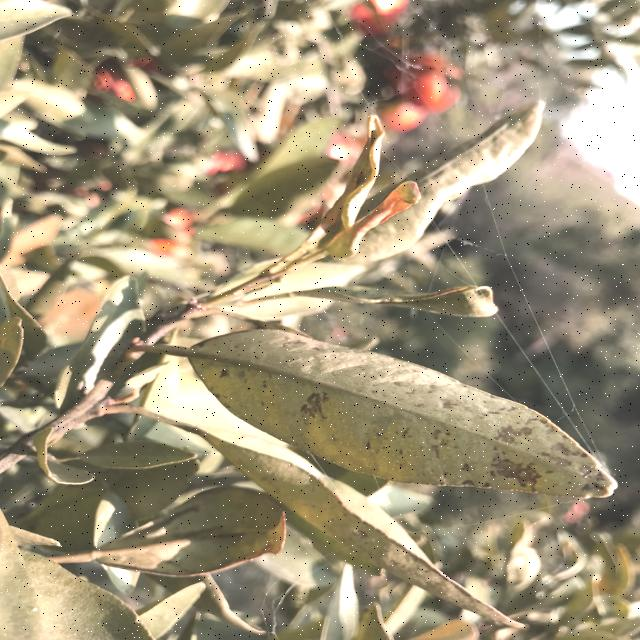melanose: (206, 319, 603, 494)
